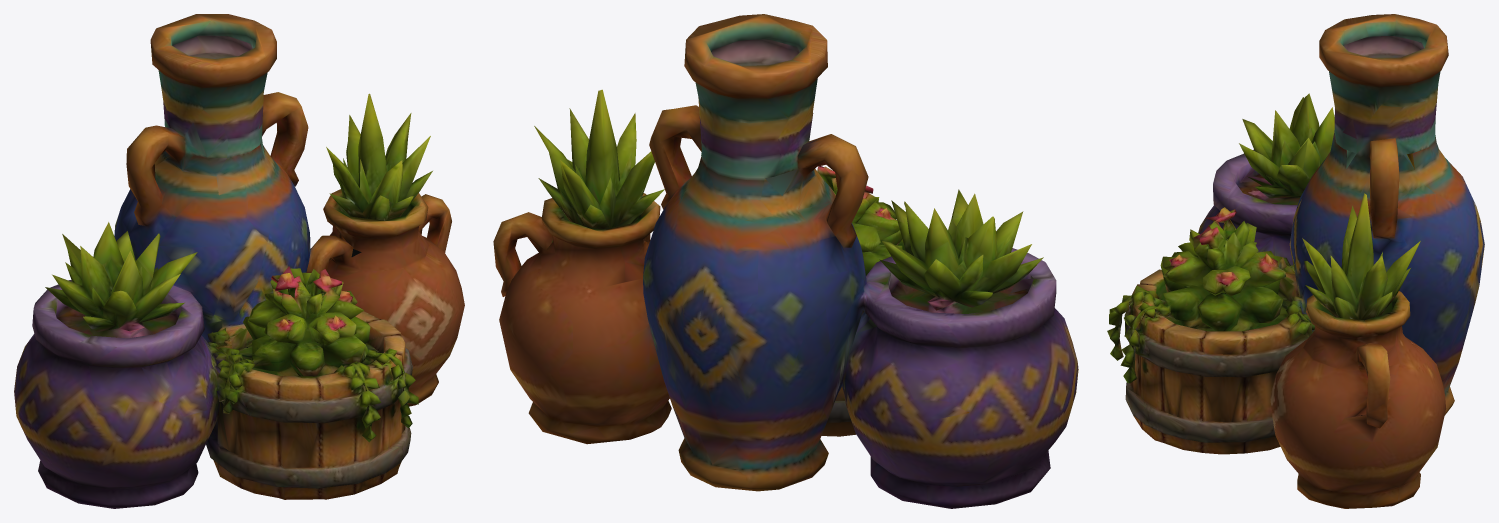
The model's file is macetas_decorativas.glb.
3 views of the same model, side by side, from view 1: azimuth 30°, elevation 25°; view 2: azimuth 150°, elevation 25°; view 3: azimuth 270°, elevation 25° (orthographic). The views are drawn at different scales.
Visible parts, largest first — view 1: macetas_decorativas; view 2: macetas_decorativas; view 3: macetas_decorativas.
Part boxes in pixels (x1,y1,x2,y2): macetas_decorativas: [14, 14, 464, 508]; macetas_decorativas: [493, 14, 1078, 508]; macetas_decorativas: [1107, 14, 1484, 508].
Size of what is drawn, in the model's own units: 0.5836 by 0.4495 by 0.4135.
1 material, 1 textured.
